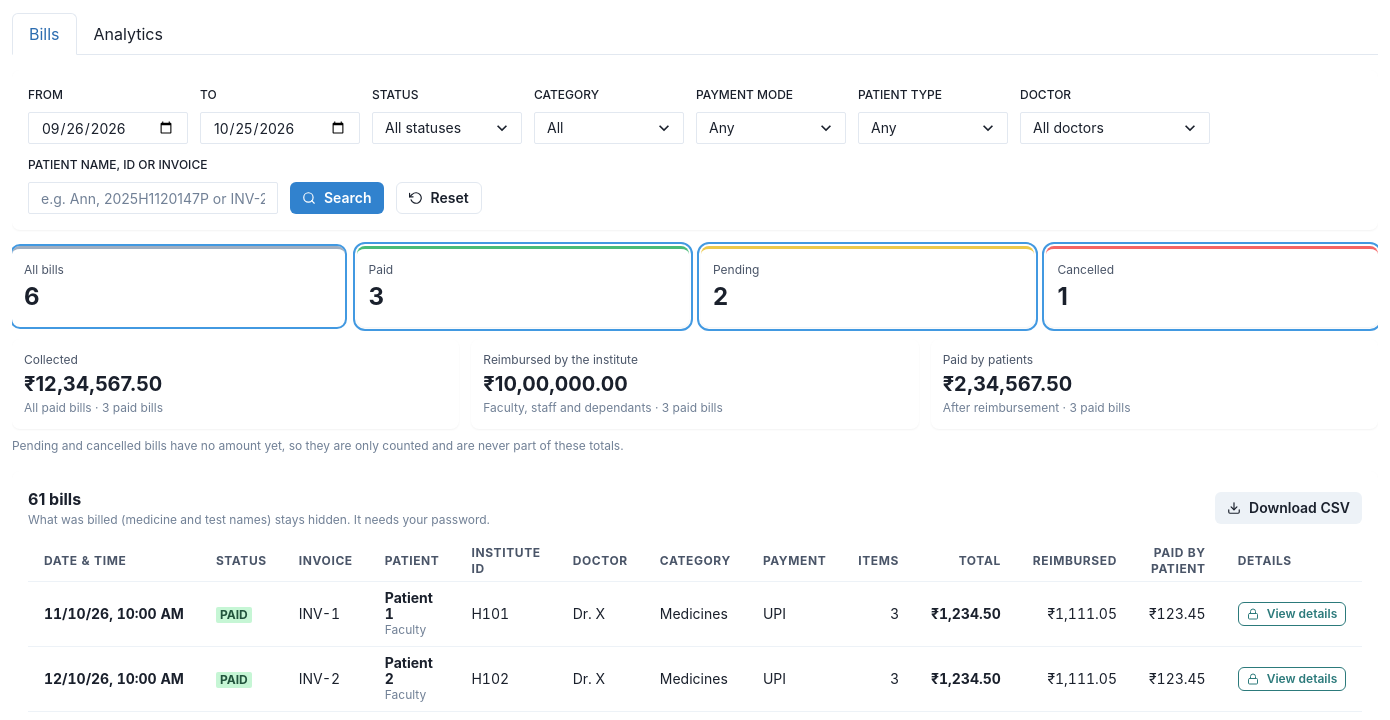
Test: Admin Billing › paging › moves through pages with the applied filters
This screenshot has width=1390, height=720.
Expected: the text "61 bills" is shown, top-left (28, 489), bottom-right (81, 509)
Select "Pending" in the dropdown labelled "STATUS" at (447, 128), box top-left (372, 112), bottom-right (522, 144)
(page scrolled)
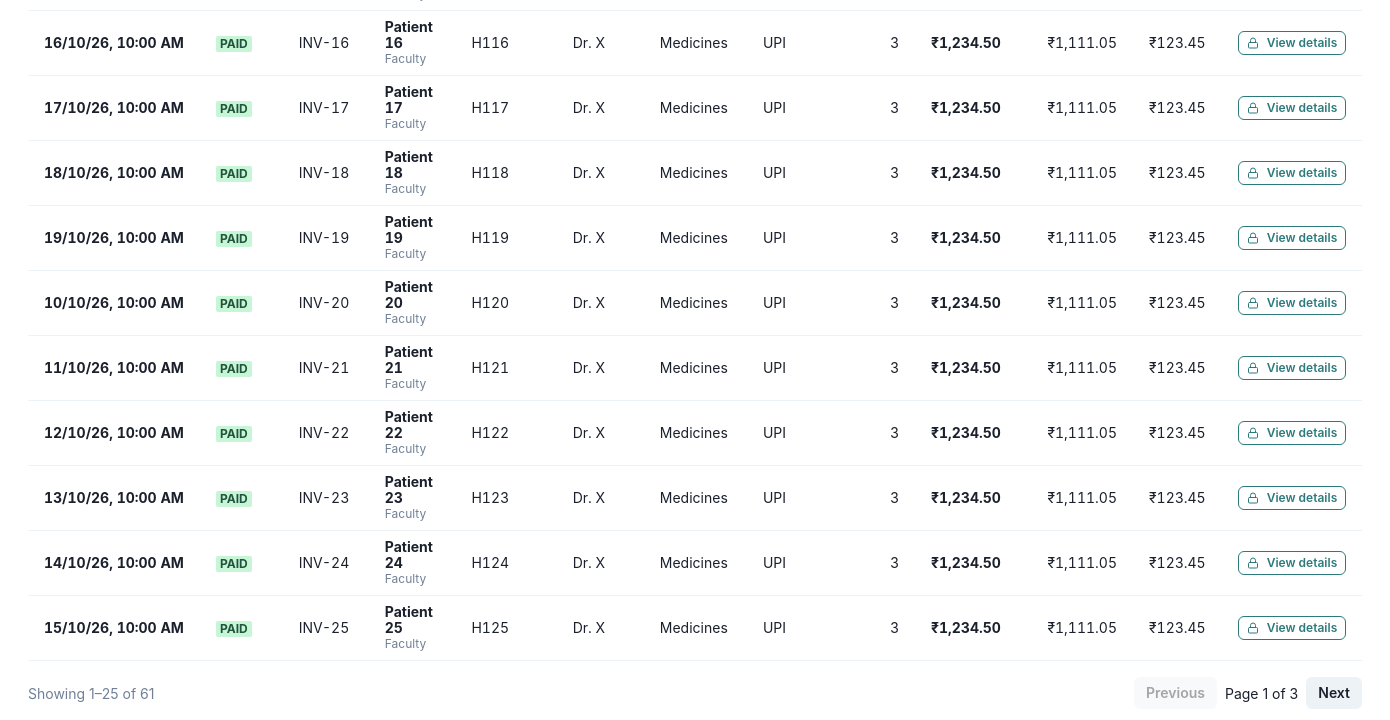
Expected: the text "Showing 1–25 of 61" is shown, top-left (28, 682), bottom-right (154, 704)
Click the button "Next" at (1334, 693), box top-left (1306, 677), bottom-right (1362, 709)
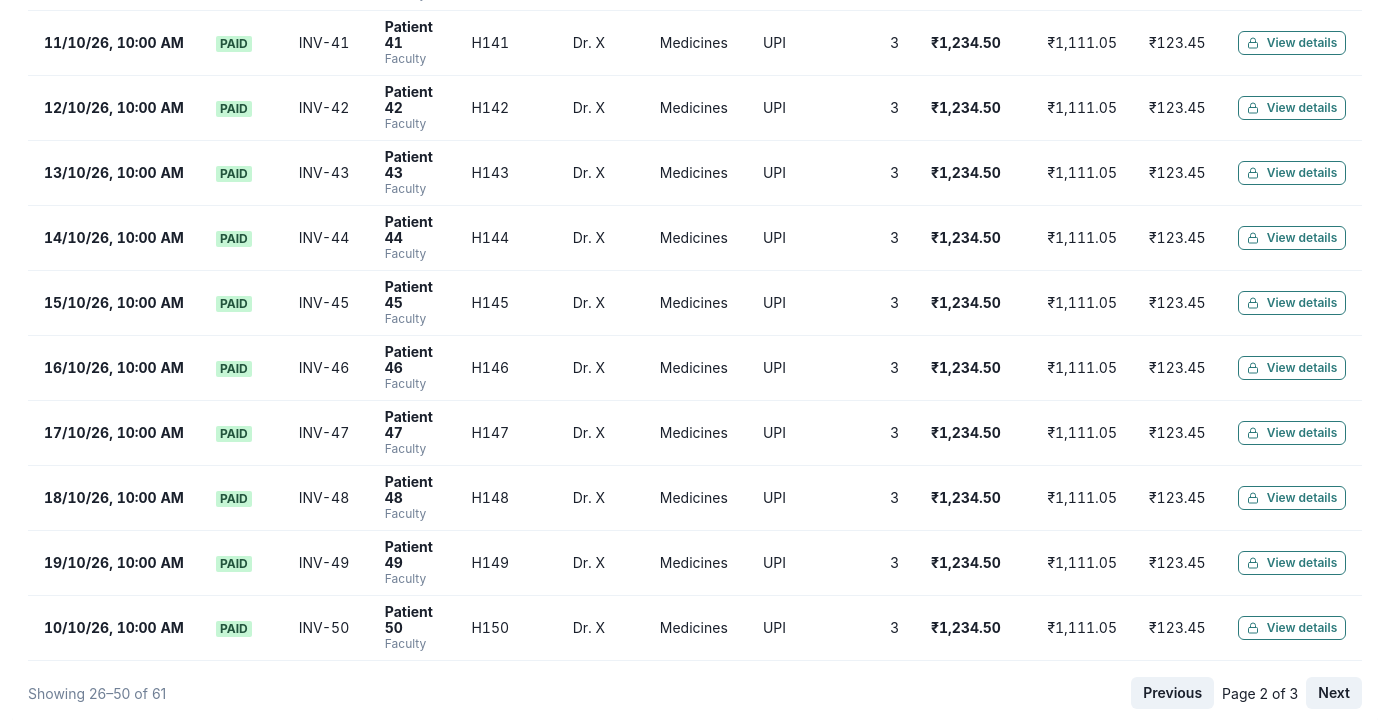
Now the text "Showing 26–50 of 61" is shown, box top-left (28, 682), bottom-right (166, 704)
Click the button "Next" at (1334, 693), box top-left (1306, 677), bottom-right (1362, 709)
(page scrolled)
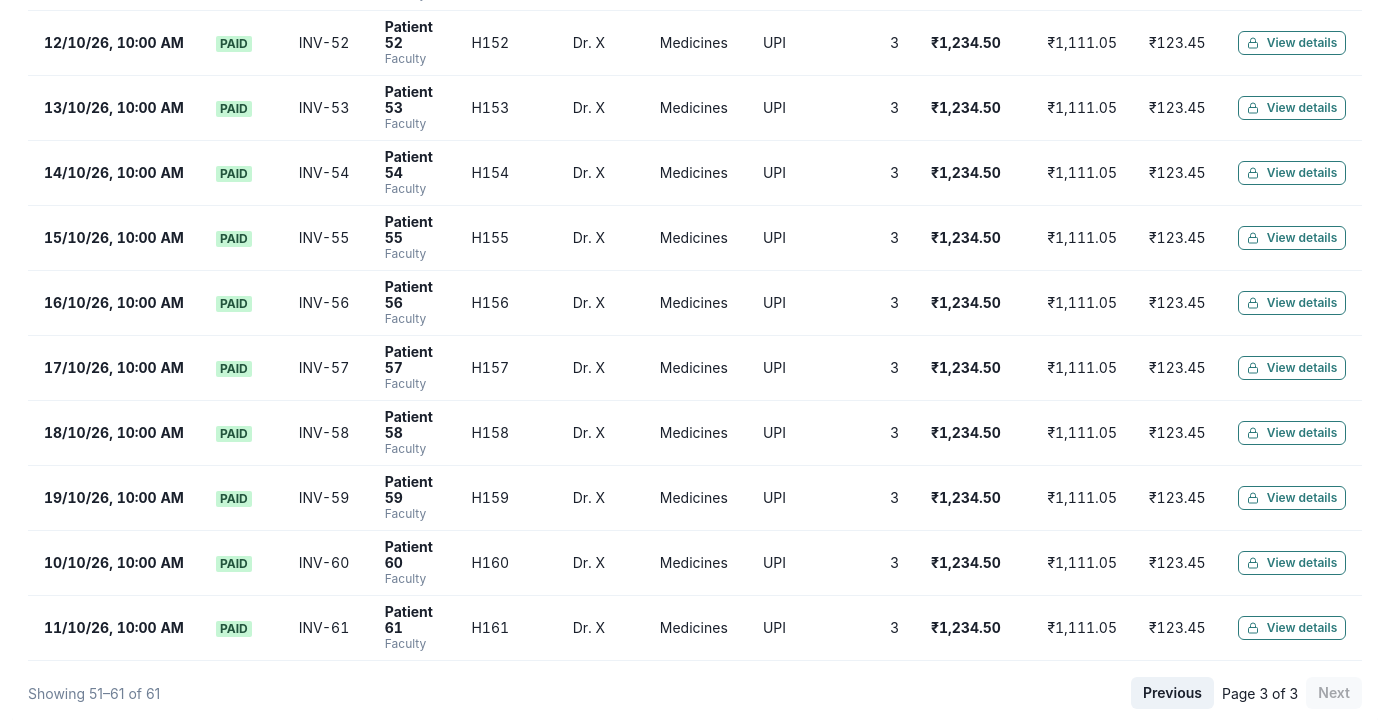
Now the text "Showing 51–61 of 61" is shown, box top-left (28, 682), bottom-right (160, 704)
Now the button "Next" is disabled, box top-left (1306, 677), bottom-right (1362, 709)
